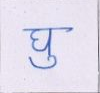u_matra: (29, 53, 59, 70)
